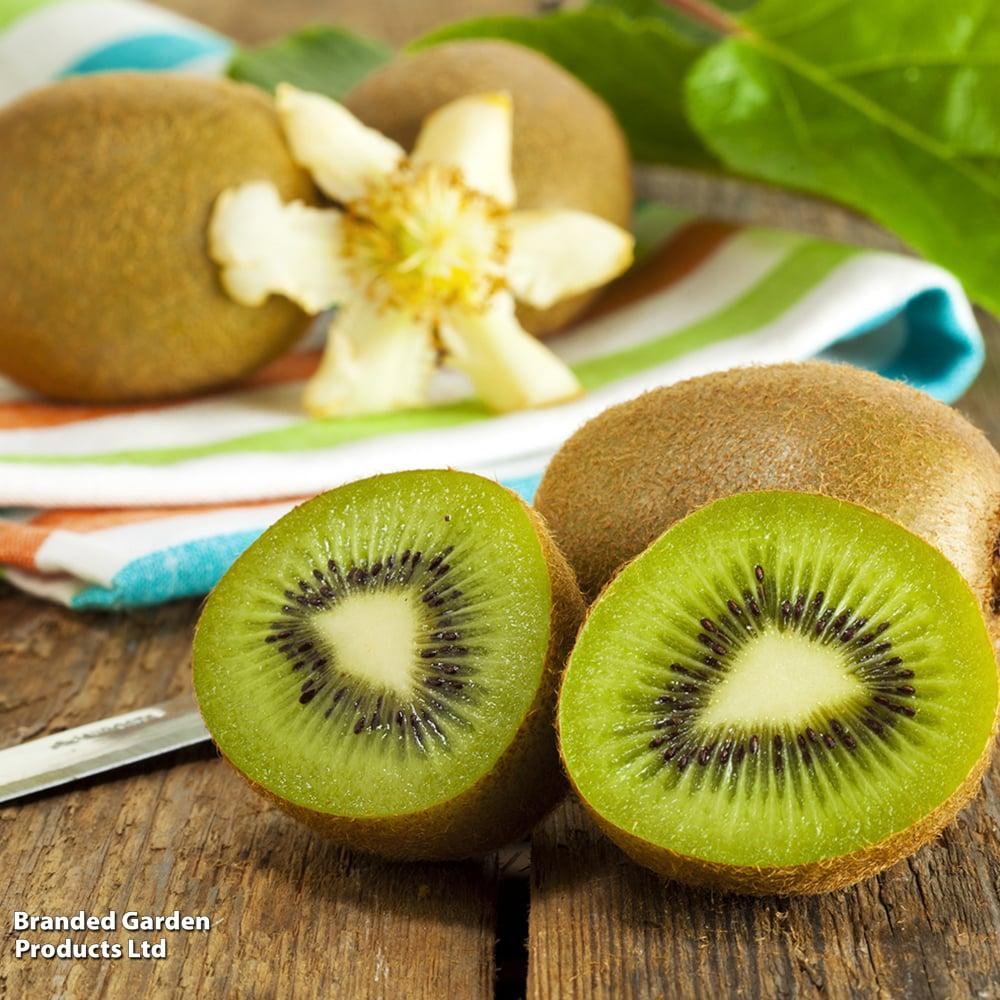kiwi: (556, 482, 1000, 894), (172, 460, 561, 858)
